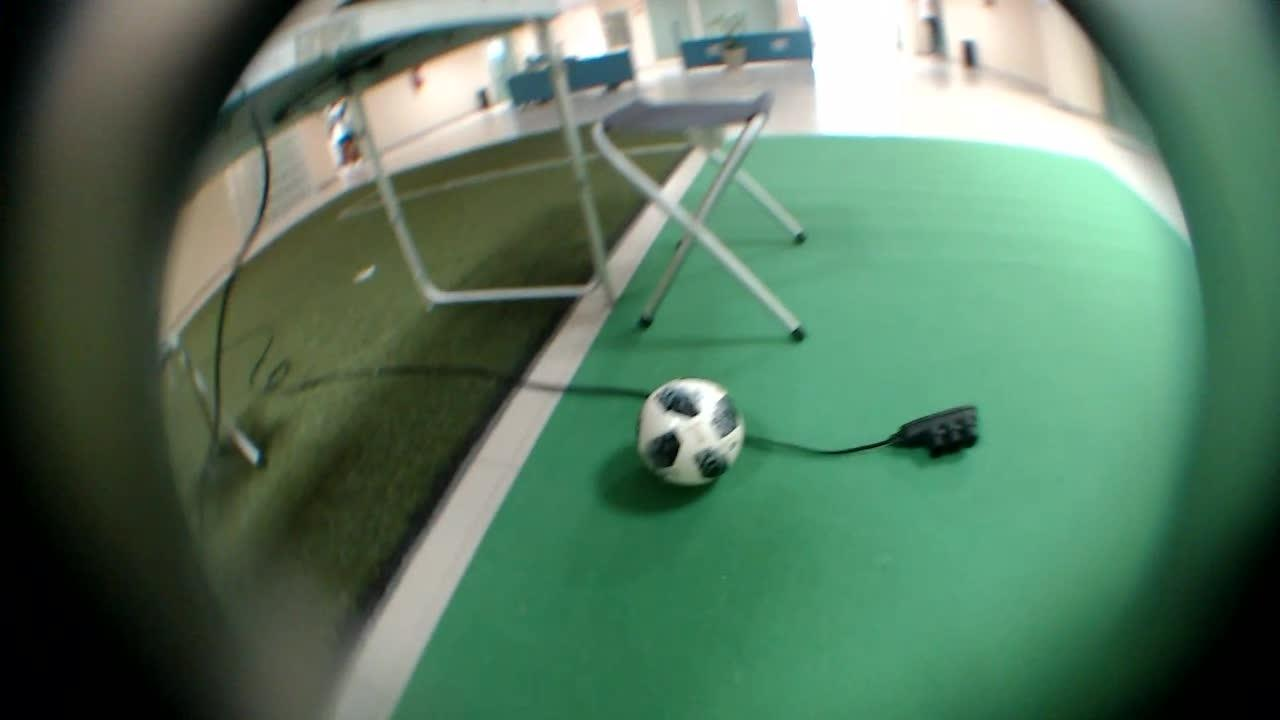ball: (622, 350, 758, 509)
